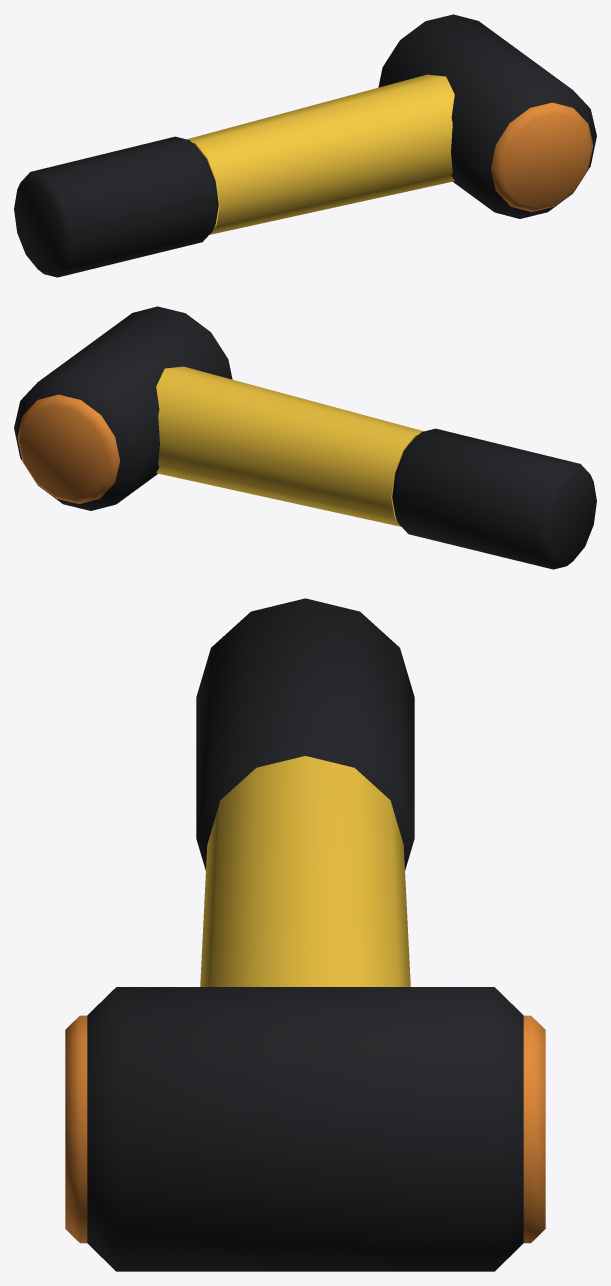
File: SM_Mallet_Rubber_01.glb
3 views of the same model, one above another, from view 1: azimuth 30°, elevation 25°; view 2: azimuth 150°, elevation 25°; view 3: azimuth 270°, elevation 25° (orthographic). The views are drawn at different scales.
Parts seen in each view (by area): view 1: SM_Mallet_Rubber_01; view 2: SM_Mallet_Rubber_01; view 3: SM_Mallet_Rubber_01.
Boxes of the visible parts, <box> form: SM_Mallet_Rubber_01: <box>14,14,596,277</box>; SM_Mallet_Rubber_01: <box>14,306,596,569</box>; SM_Mallet_Rubber_01: <box>65,598,545,1271</box>.
Size of the model in its own units: 0.325 by 0.078 by 0.132.
1 material, 1 textured.
